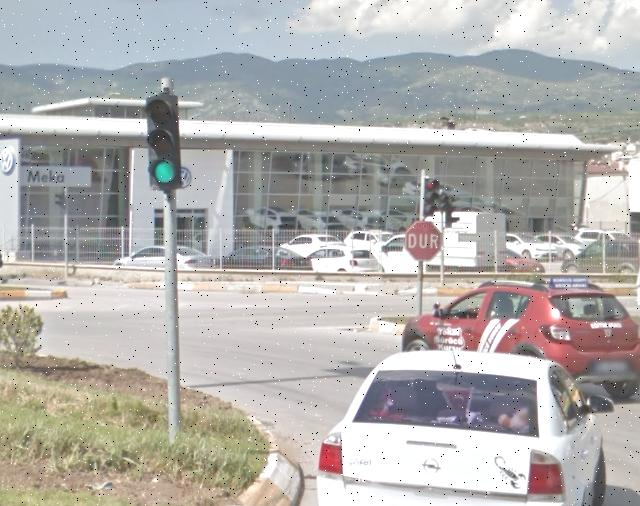greenlight: (145, 95, 183, 187)
stop: (405, 220, 441, 262)
